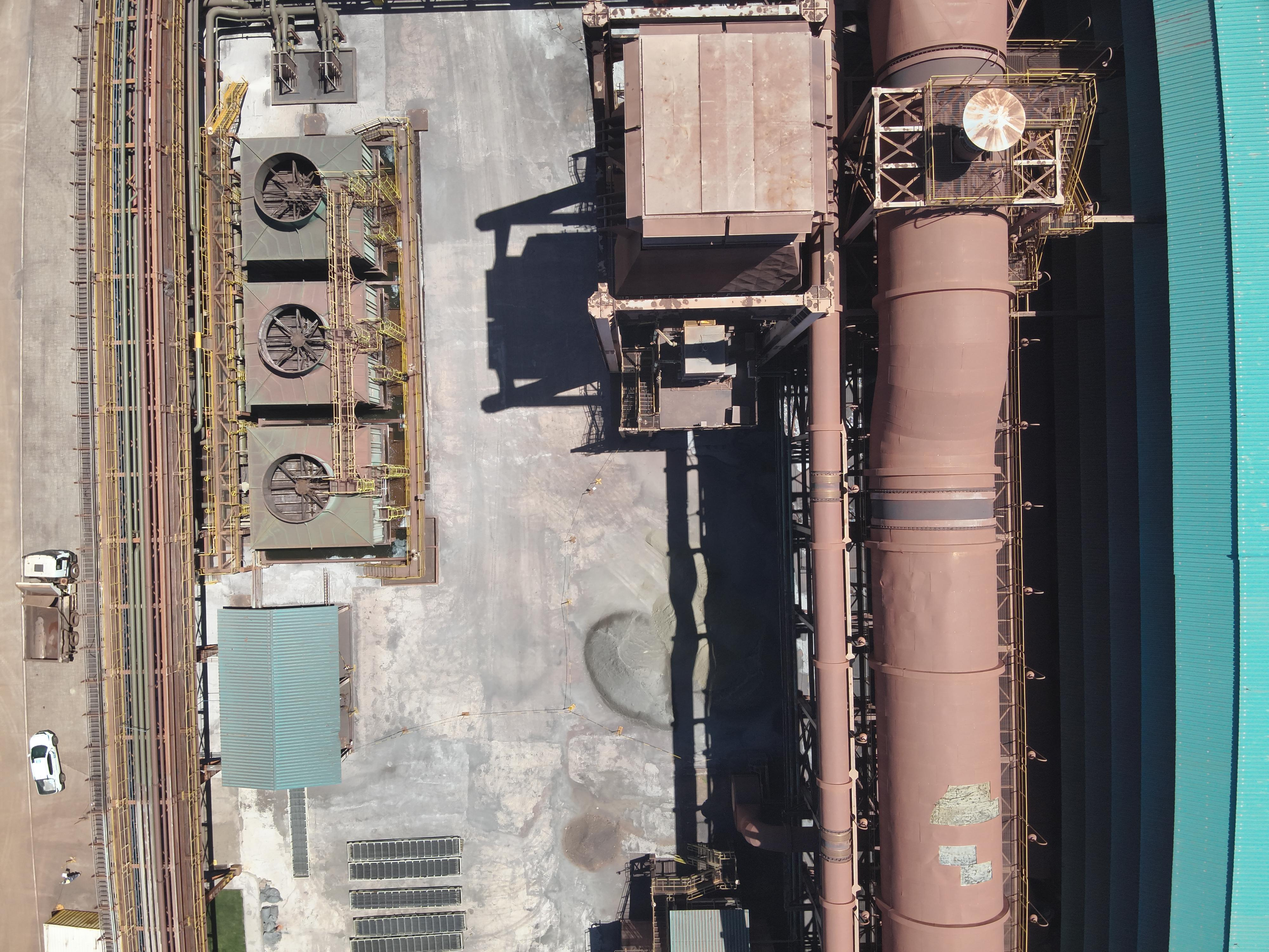Failures: (929, 781, 1002, 827), (938, 844, 995, 886)
